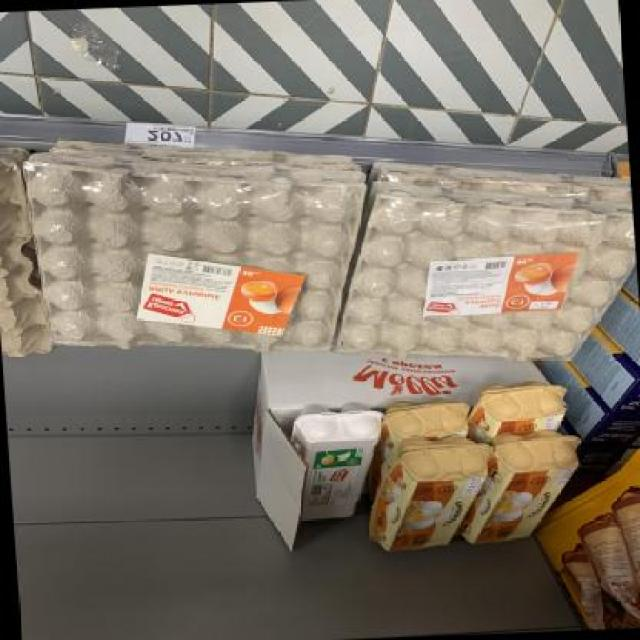Egg: (365, 436, 492, 556), (461, 432, 582, 545), (291, 401, 387, 522), (472, 382, 565, 436), (385, 398, 469, 440)
